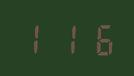one: (51, 19, 82, 56), (18, 19, 49, 55)
six: (83, 20, 114, 56)
